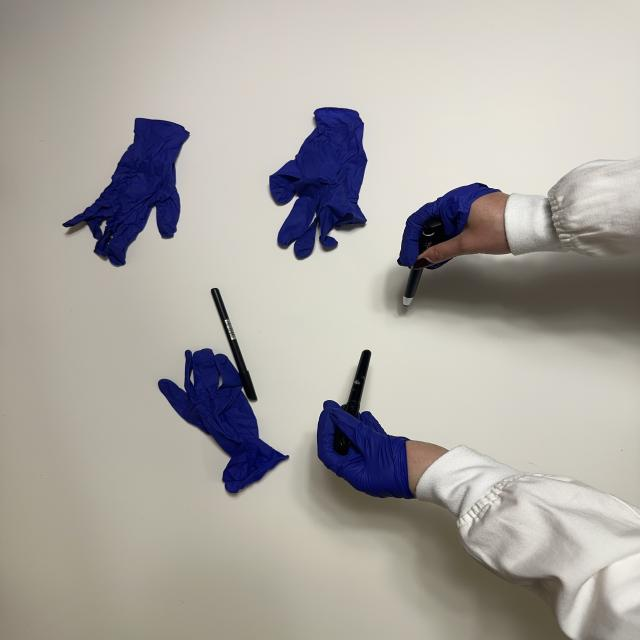glove_partial: (316, 398, 450, 502), (396, 180, 514, 271)
